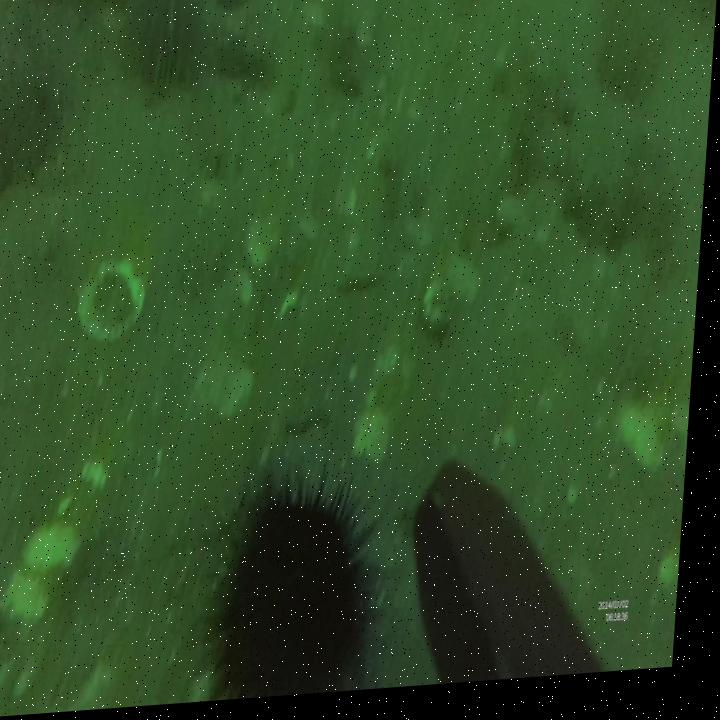echinus: (202, 469, 405, 706)
scallop: (79, 255, 155, 348)
